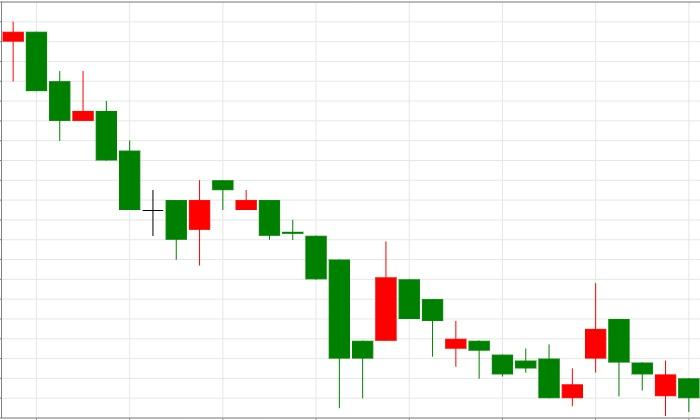hammer_rise: (212, 179, 373, 409)
